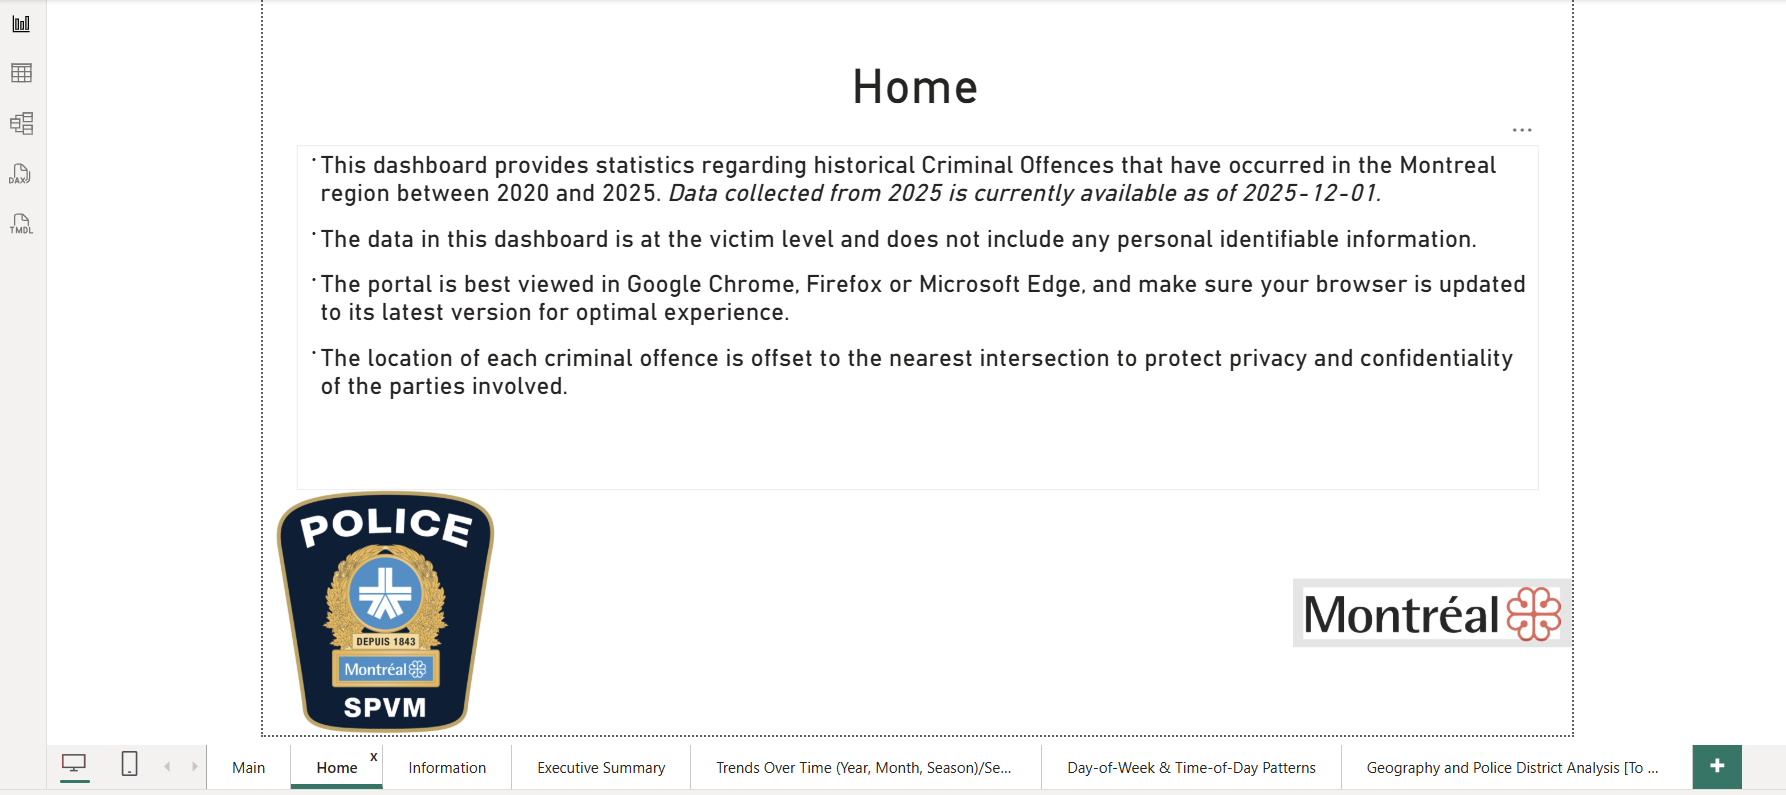

The page's visual inventory and layout, read from the dashboard file:
{"tool":"powerbi","page":{"name":"Home","canvas":[1280,720],"ordinal":1},"visuals":[{"type":"textbox","box":[32.9,142.7,1214.4,337.6],"z":0},{"type":"textbox","box":[554.4,52.1,168.8,74.1],"z":1000},{"type":"image","box":[0,480.3,240.1,240.1],"z":2000},{"type":"image","box":[1007.2,543.4,273.1,115.3],"z":3000}]}

Visuals, with their boxes on the page's 1280x720 design canvas (x1, y1, x2, y2). These are canvas units, not pixel positions in the 1786x795 screenshot, which may show the page scaled, cropped or inside an application window:
textbox: 33 143 1247 480
textbox: 554 52 723 126
image: 0 480 240 720
image: 1007 543 1280 659
